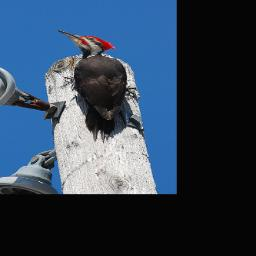Woodpecker: (51, 28, 144, 142)
